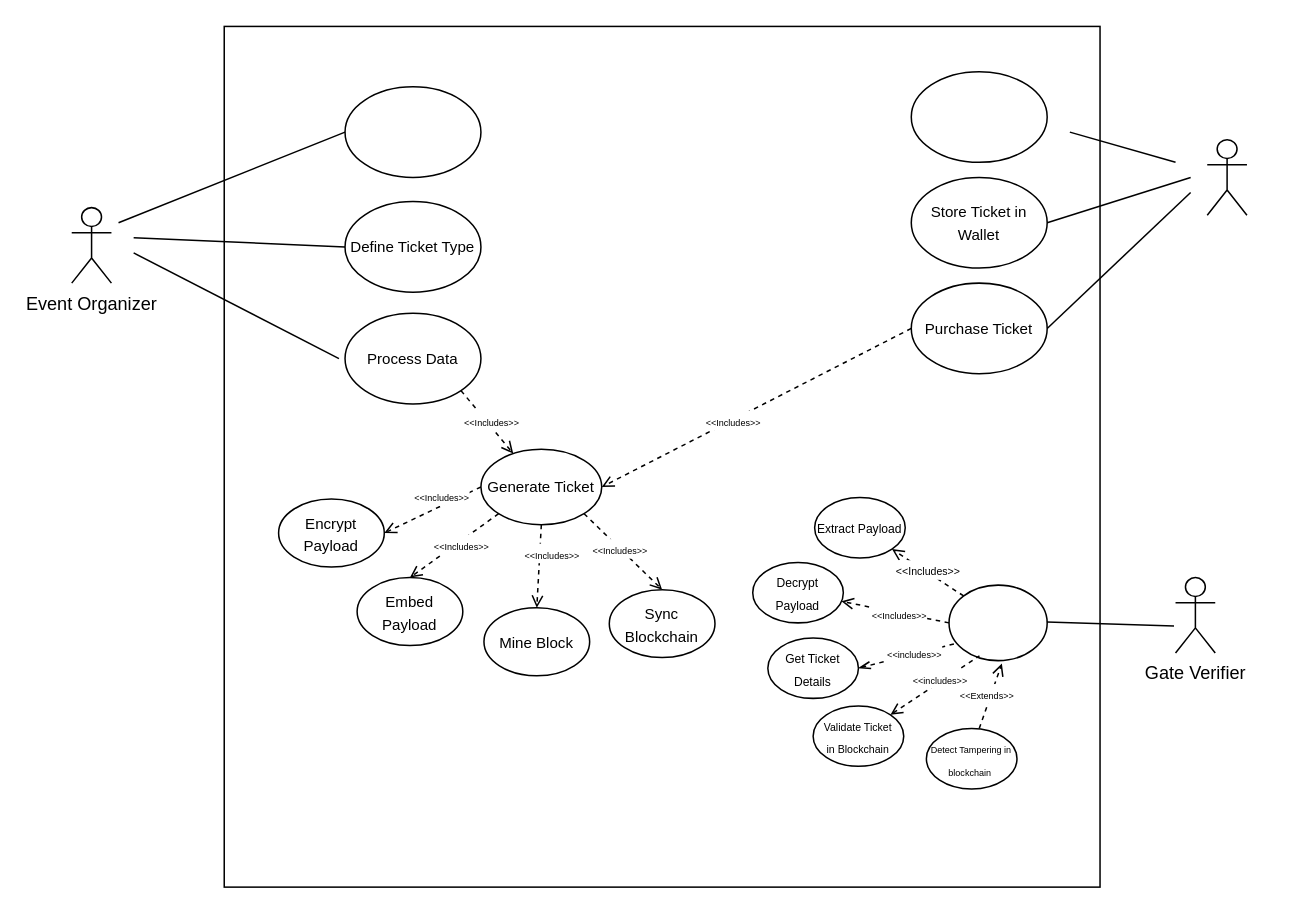
Image size: 1314x914. Some labels were removed from this diagram. Here are the shapes that lost their labels. From the top down, the centre of each, then its label:
At [412,131]: "Create Event".
At [978,116]: "Present Ticket".
At [1226,176]: "Event Attendee".
At [997,622]: "Verify Ticket".
